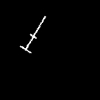double_crochet: (20, 17, 44, 52)
